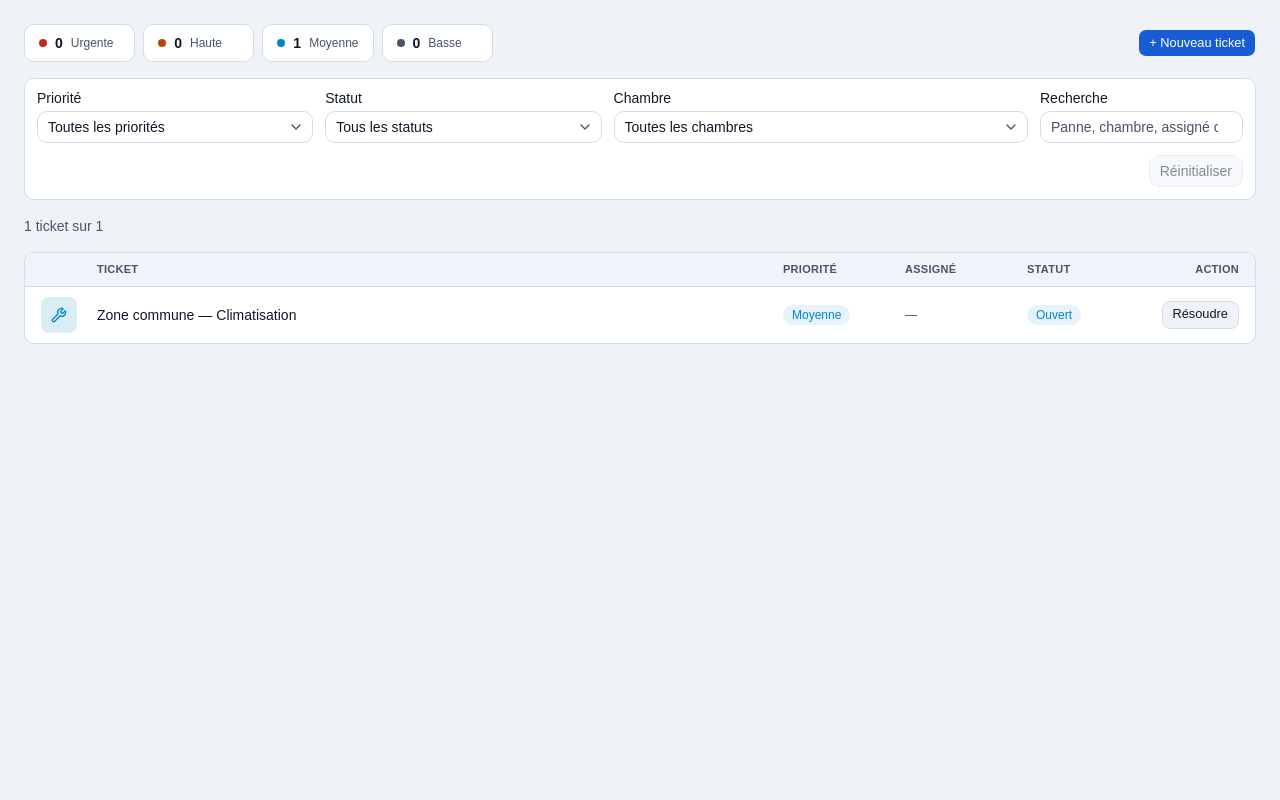
Test: MaintenancePage — chargements indépendants › conserve les tickets si les chambres échouent et réessaie uniquement les chambres
Expected: the button with aria-label "Voir le détail du ticket 1" is shown, [216,304,296,324]
Click the button "+ Nouveau ticket": [1197, 43] box [1138,29,1256,57]
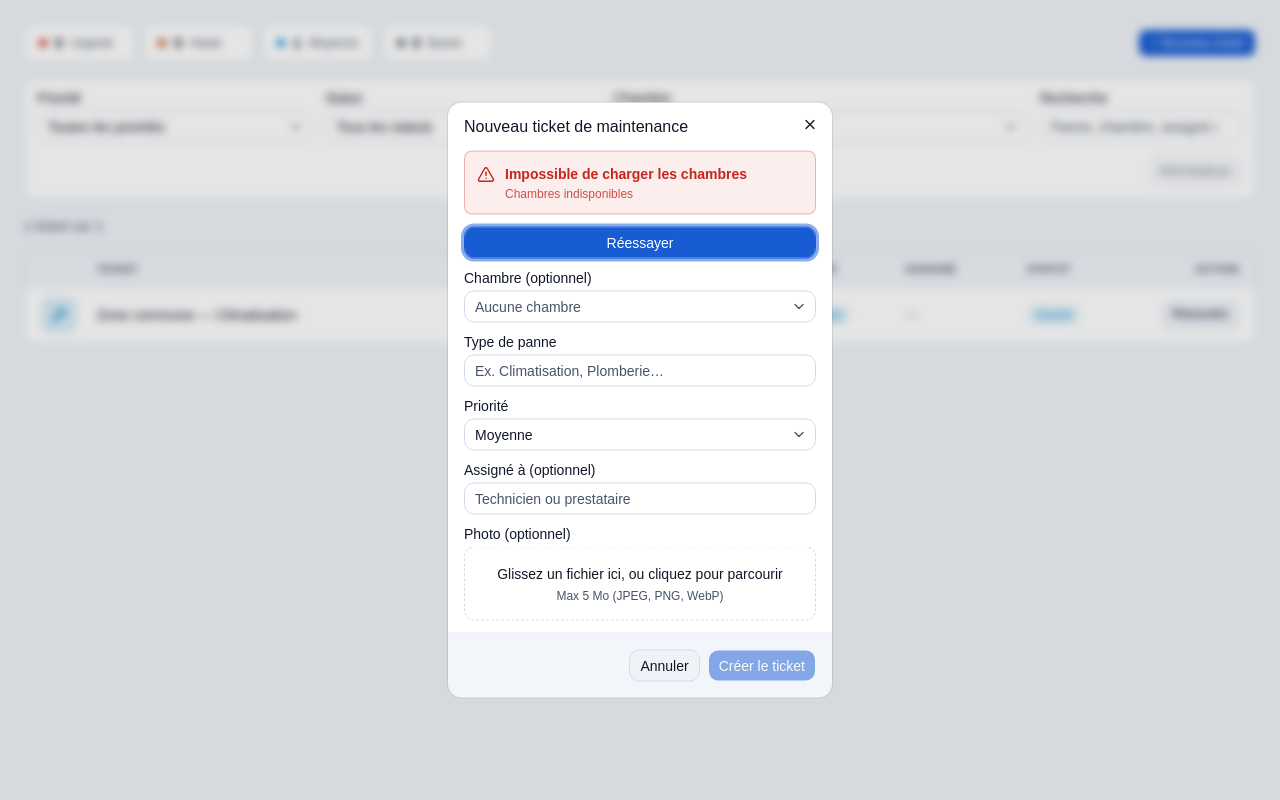
Expected: the text "Impossible de charger les chambres" is shown, [505,164,747,184]
Click the button "Réessayer": [640, 242] box [464,226,816,258]
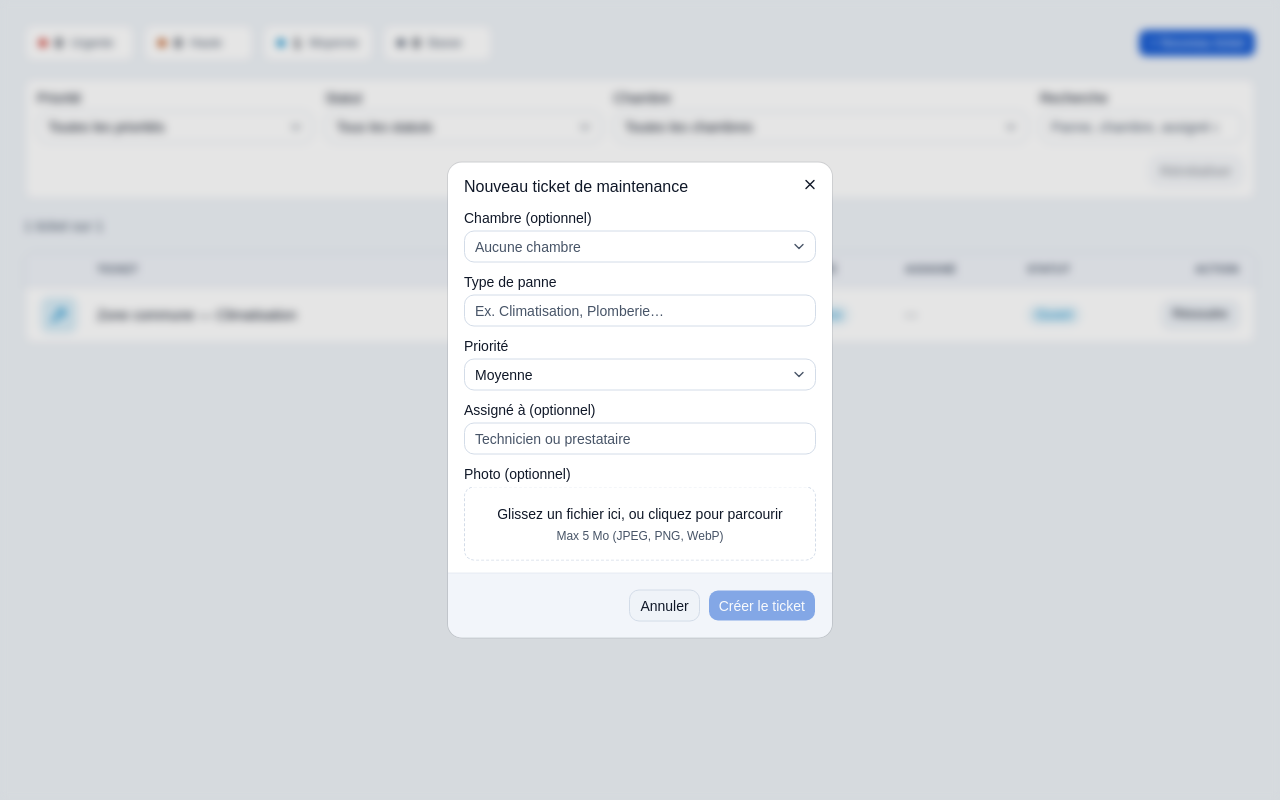
Click the dropdown named "Chambre (optionnel)": [528, 246] box [464,230,816,262]
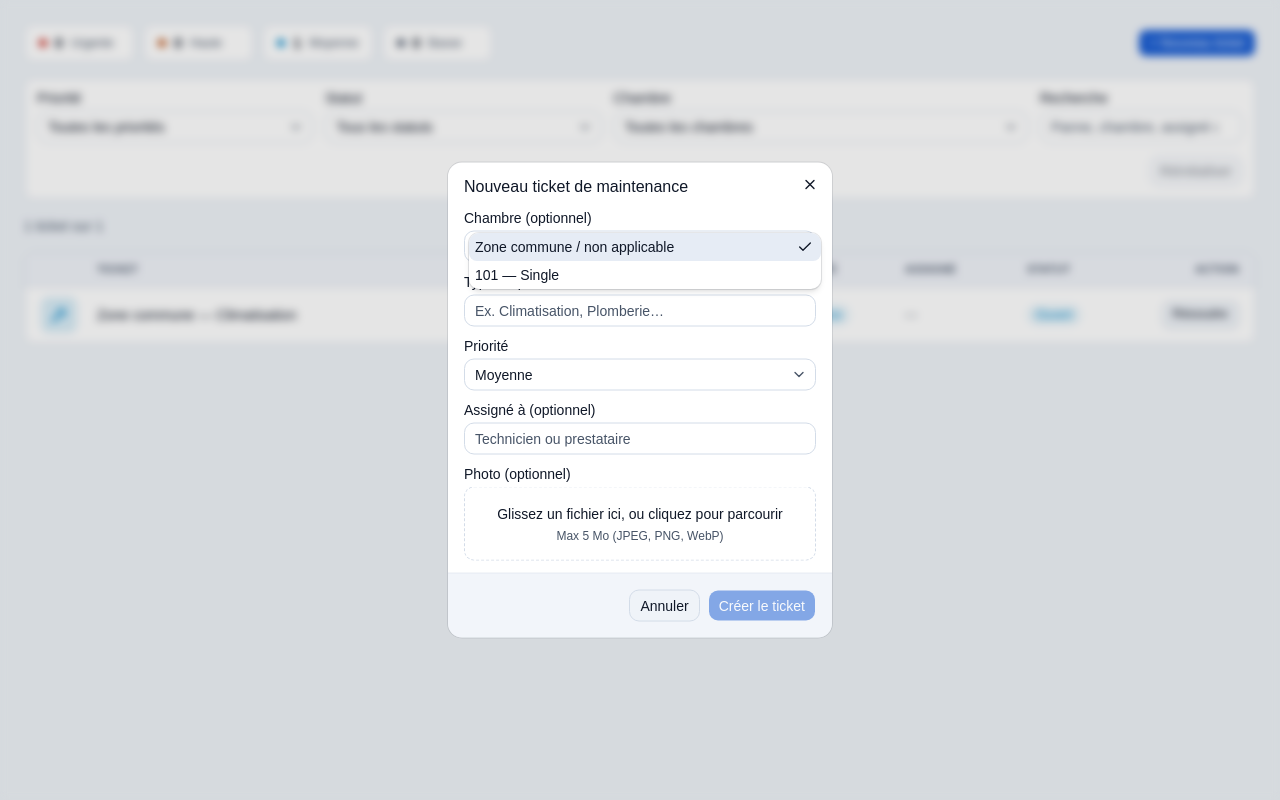
Expected: the button with aria-label "Voir le détail du ticket 1" is shown, [216,304,296,324]
Expected: the option "101 — Single" is shown, [475,266,559,282]
